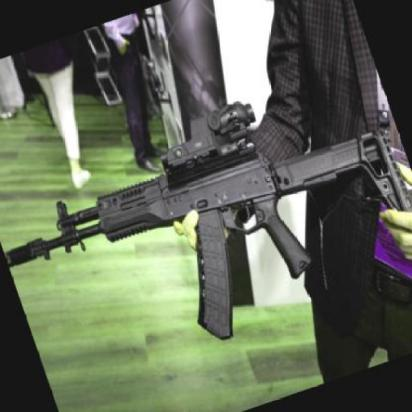Gun: (0, 73, 412, 412)
